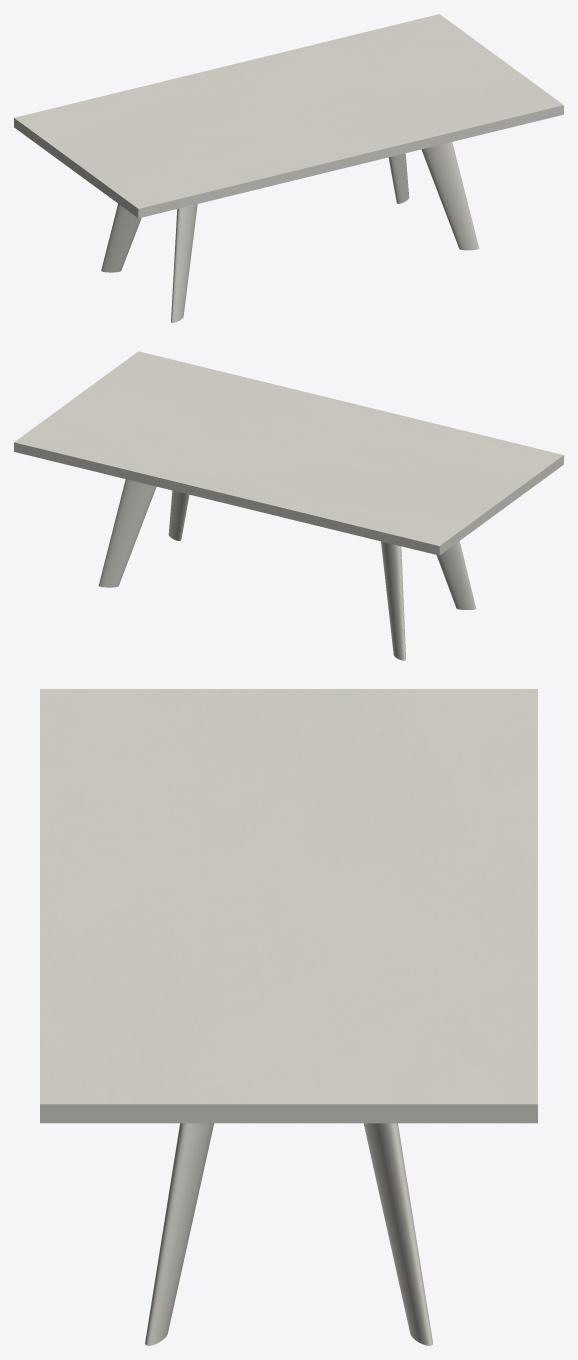
File: pale_recta_standard_ferdinantwalnut.glb
3 renders of one model, top to bottom at view 1: azimuth 30°, elevation 25°; view 2: azimuth 150°, elevation 25°; view 3: azimuth 270°, elevation 25°, orthographic. The views are drawn at different scales.
Parts seen in each view (by area): view 1: standard_recta, ferdinandwalnut; view 2: standard_recta, ferdinandwalnut; view 3: standard_recta, ferdinandwalnut.
Part boxes in pixels (x1,y1,x2,y2): standard_recta: (14,14,563,218); ferdinandwalnut: (101,142,479,322); standard_recta: (14,351,563,555); ferdinandwalnut: (98,479,476,660); standard_recta: (40,689,537,1123); ferdinandwalnut: (145,1123,432,1345).
Size of the model in its own units: 7.5 by 2.51 by 3.8.
1 material, 1 textured.
